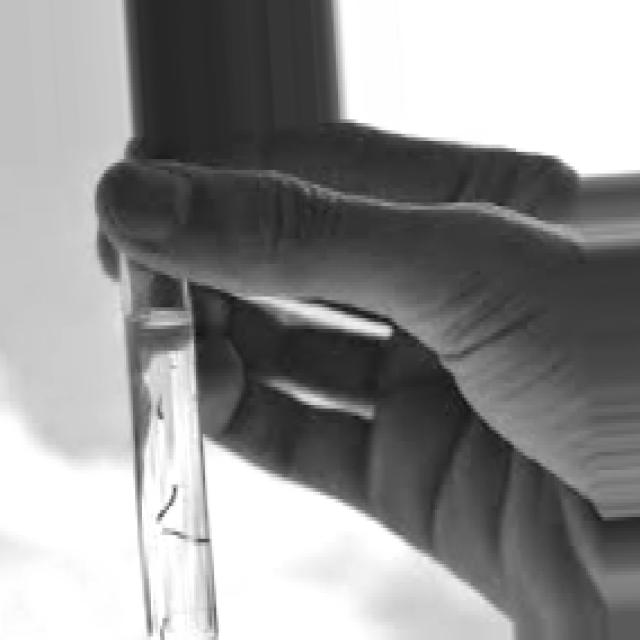larvas: (159, 526, 213, 552), (157, 487, 176, 521), (158, 604, 174, 640), (156, 401, 165, 424)
